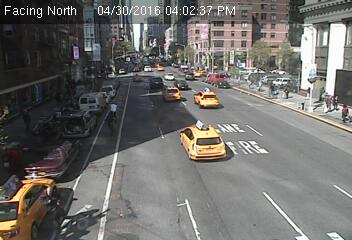neg: (252, 85, 286, 131), (254, 154, 286, 196), (301, 160, 330, 198), (90, 176, 119, 213), (28, 171, 56, 208), (95, 95, 122, 132), (187, 70, 214, 107), (260, 34, 287, 70), (175, 116, 201, 151), (138, 36, 163, 69), (25, 43, 49, 75), (63, 39, 85, 68), (156, 153, 174, 176), (210, 34, 227, 56)
pos: (20, 105, 40, 132), (332, 102, 348, 123)
